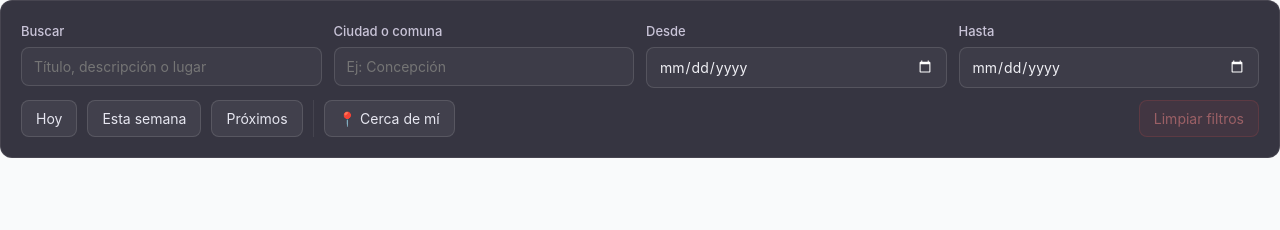
Test: EventFilters — geolocalización con error › shows a message when the permission is denied and does not change the location
This screenshot has width=1280, height=230.
What coordinates should you click on to do the following:
click the button "📍 Cerca de mí"
I would click on:
 (389, 118)
Its box is [324, 100, 455, 137].
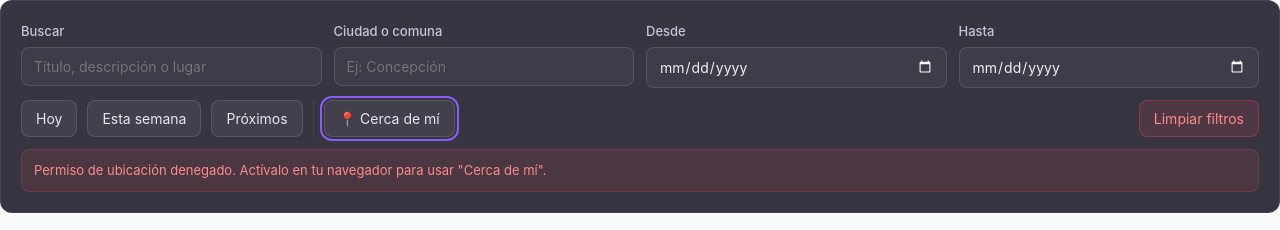
Result: the message shows "Permiso de ubicación denegado" at [34, 162, 546, 178]
